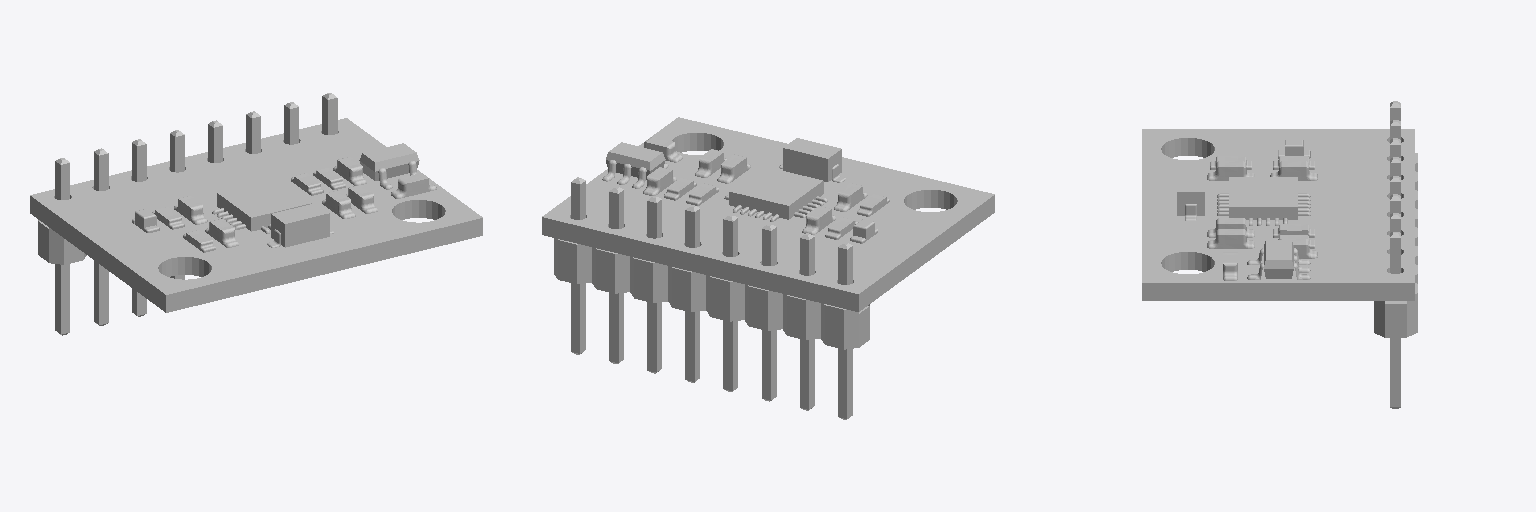
Rendered from imu.obj.
3 views of the same model, side by side, from view 1: azimuth 30°, elevation 25°; view 2: azimuth 150°, elevation 25°; view 3: azimuth 270°, elevation 25° (orthographic).
Visible parts, largest first — view 1: Body1, Body1:9, Body1:8, Body1:22, Body1:10, Body1:7, Body1:6, Body1:11, Body1:5, Body1:1, Body1:2, Body1:3 (+6 smaller); view 2: Body1, Body1:9, Body1:8, Body1:5, Body1:4, Body1:2, Body1:3, Body1:7, Body1:1, Body1:6, Body1:22, Body1:10 (+5 smaller); view 3: Body1, Body1:9, Body1:1, Body1:10, Body1:22, Body1:15, Body1:17, Body1:19.
Boxes of the visible parts, <box> form: Body1: <box>30,118,482,312</box>; Body1:9: <box>212,178,311,233</box>; Body1:8: <box>38,158,86,335</box>; Body1:22: <box>267,203,333,247</box>; Body1:10: <box>359,143,419,189</box>; Body1:7: <box>94,148,108,325</box>; Body1:6: <box>132,139,146,316</box>; Body1:11: <box>391,173,436,198</box>; Body1:5: <box>170,130,184,279</box>; Body1:1: <box>322,93,337,134</box>; Body1:2: <box>284,102,298,144</box>; Body1:3: <box>246,111,260,153</box>; Body1: <box>542,117,994,311</box>; Body1:9: <box>724,166,827,221</box>; Body1:8: <box>821,242,869,419</box>; Body1:5: <box>706,214,744,391</box>; Body1:4: <box>668,205,705,382</box>; Body1:2: <box>592,187,629,363</box>; Body1:3: <box>630,196,667,373</box>; Body1:7: <box>783,233,820,410</box>; Body1:1: <box>554,177,591,354</box>; Body1:6: <box>745,224,782,401</box>; Body1:22: <box>779,138,845,182</box>; Body1:10: <box>602,142,668,188</box>; Body1: <box>1142,129,1414,300</box>; Body1:9: <box>1217,177,1310,225</box>; Body1:1: <box>1374,232,1417,408</box>; Body1:10: <box>1247,240,1310,279</box>; Body1:22: <box>1177,170,1204,220</box>; Body1:15: <box>1207,229,1254,248</box>; Body1:17: <box>1207,161,1254,180</box>; Body1:19: <box>1270,161,1317,180</box>.
Bounding box in the file's own units: 21.11 × 11.18 × 15.88.